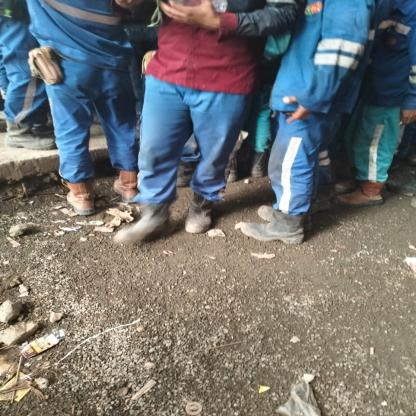bota: (244, 209, 305, 245), (4, 115, 55, 151), (340, 179, 392, 212), (182, 194, 219, 234), (60, 178, 98, 215), (105, 166, 138, 203), (247, 150, 266, 178)
